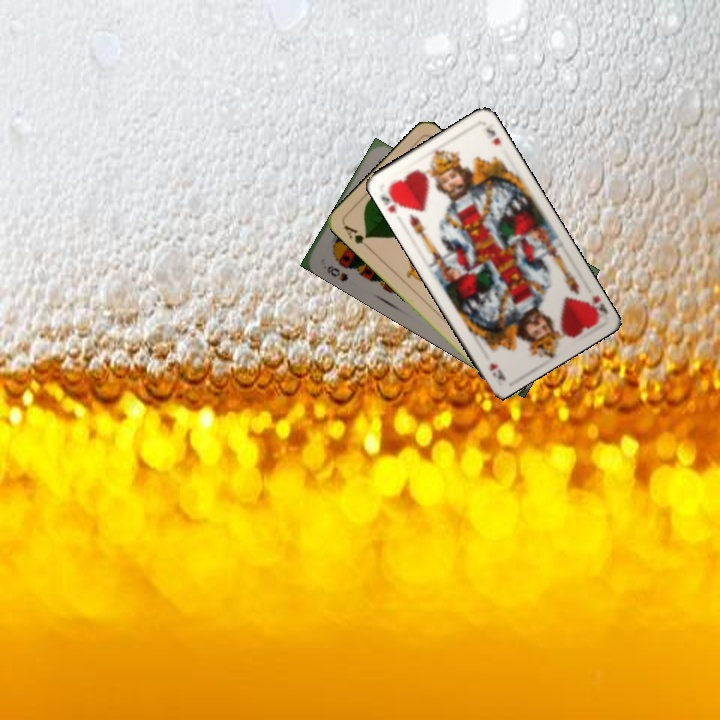GA: (340, 221, 373, 252)
HK: (580, 291, 611, 322), (377, 182, 404, 217)
S8: (323, 261, 351, 285)
